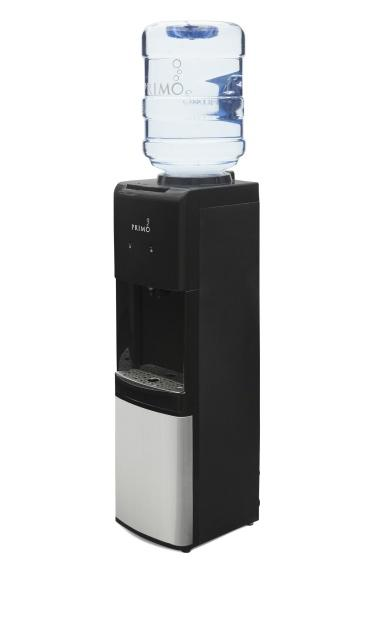Dispenser: (112, 20, 260, 553)
